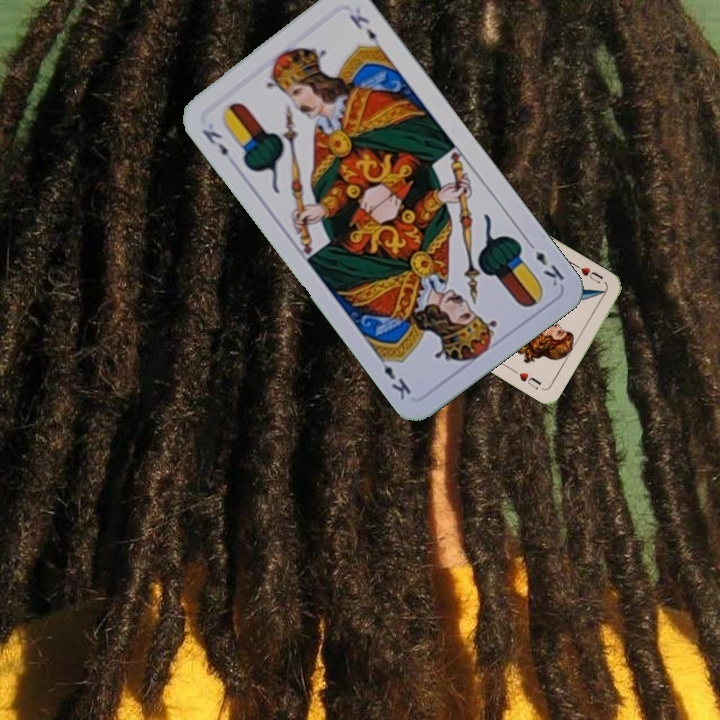EK: (522, 236, 567, 290), (197, 125, 231, 159)
HU: (576, 263, 606, 286)
